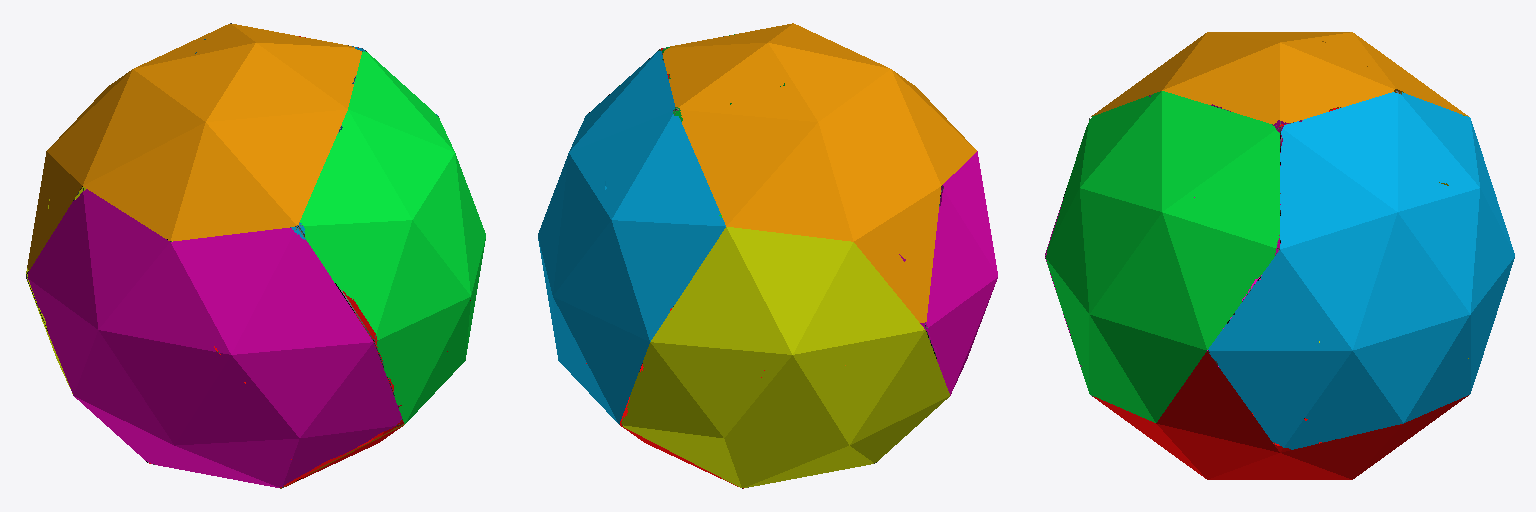
3 renders of one model, left to right at view 1: azimuth 30°, elevation 25°; view 2: azimuth 150°, elevation 25°; view 3: azimuth 270°, elevation 25°, orthographic.
Parts seen in each view (by area): view 1: Cube; view 2: Cube; view 3: Cube.
Part boxes in pixels (x1,y1,x2,y2): Cube: (26, 23, 485, 488); Cube: (538, 23, 997, 488); Cube: (1045, 32, 1514, 479).
Bounding box in the file's own units: 1.9 × 2 × 2.
1 materials, 1 textured.